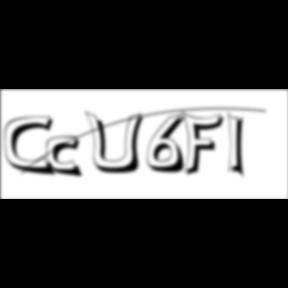6: (148, 112, 192, 176)
C: (4, 115, 60, 178)
F: (182, 110, 230, 178)
I: (228, 110, 252, 182)
U: (84, 110, 150, 176)
c: (47, 136, 87, 180)
